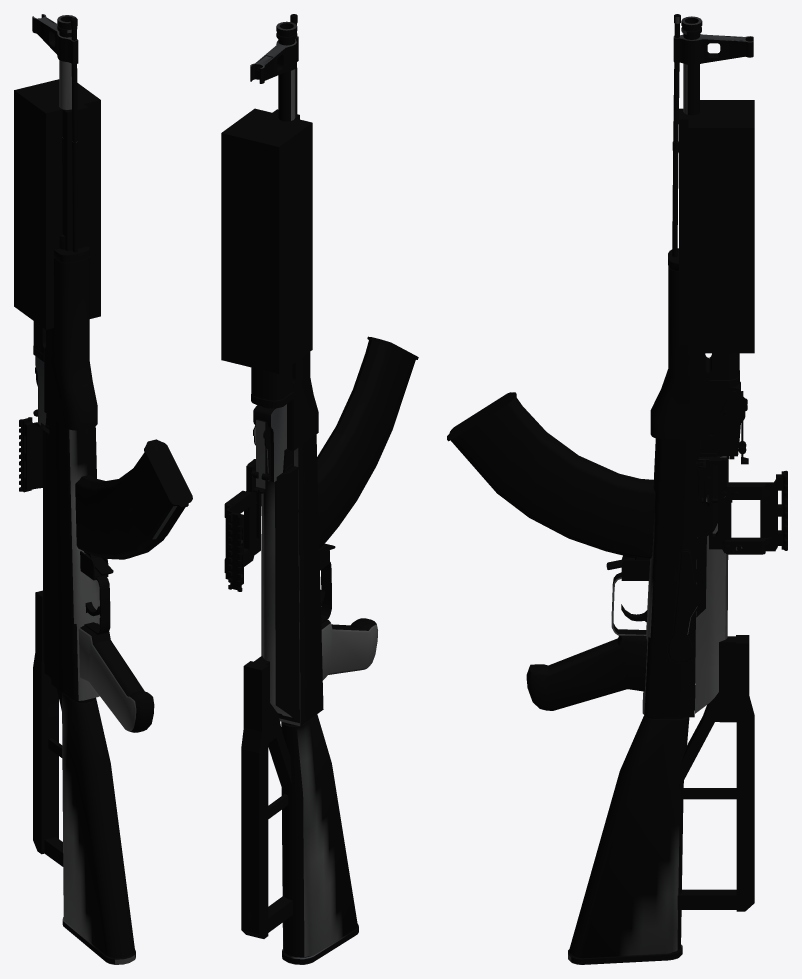
The model's file is AK47__Handguard_AK_Quad__Mount_AK_SideRail__Stock_AK_Folding.fbx.
3 renders of one model, left to right at view 1: azimuth 30°, elevation 25°; view 2: azimuth 150°, elevation 25°; view 3: azimuth 270°, elevation 25°, orthographic. The views are drawn at different scales.
Parts seen in each view (by area): view 1: asset_AK47.001; view 2: asset_AK47.001; view 3: asset_AK47.001.
Boxes of the visible parts, x1,y1,x2,y2 form: asset_AK47.001: [14, 14, 192, 964]; asset_AK47.001: [221, 14, 418, 964]; asset_AK47.001: [447, 14, 787, 964].
Bounding box in the file's own units: 0.0336 × 0.528 × 0.173.
